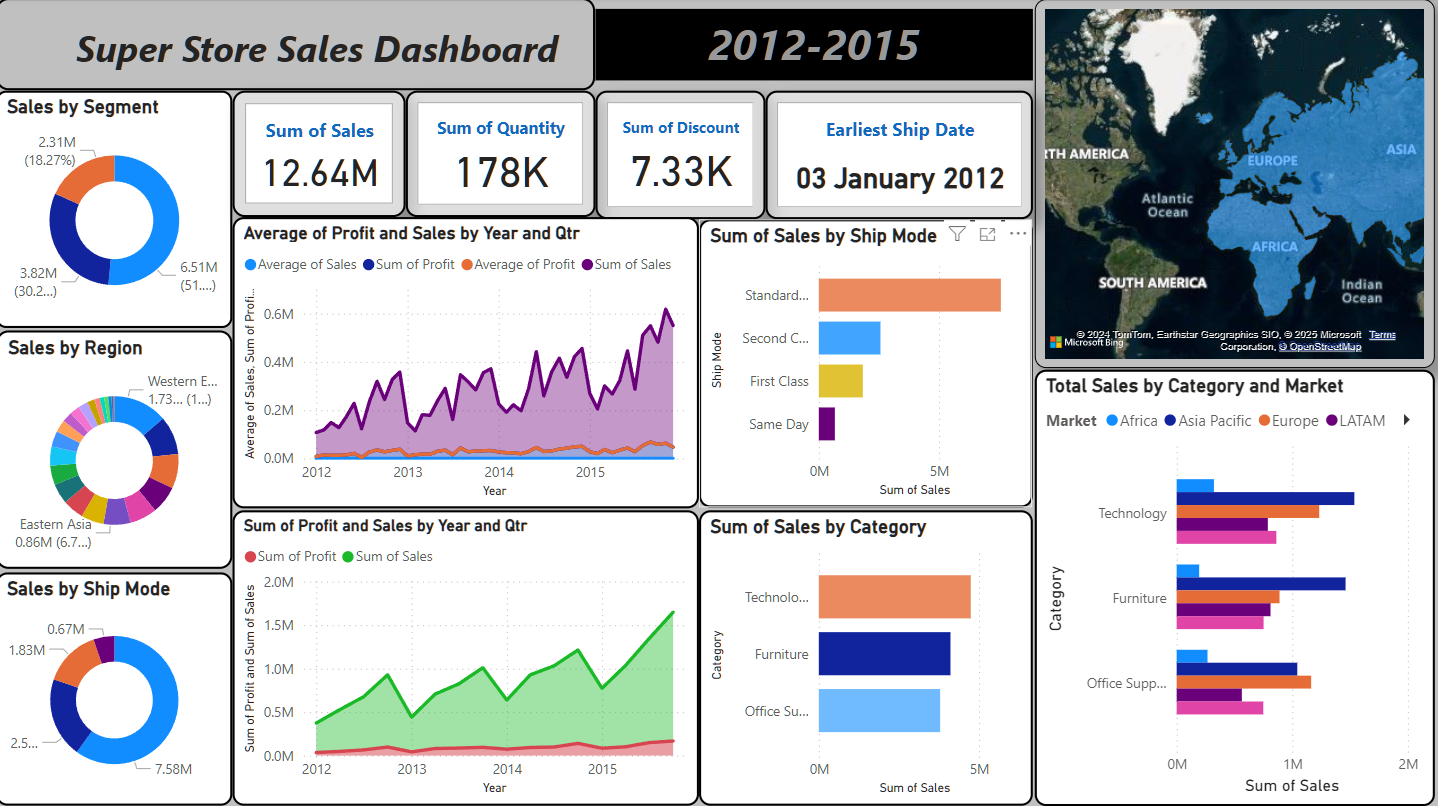

The page's visual inventory and layout, read from the dashboard file:
{"tool":"powerbi","page":{"name":"super store data 1","canvas":[1280,720],"ordinal":0},"visuals":[{"type":"textbox","box":[0,0,530.6,82],"z":0},{"type":"donutChart","fields":{"Category":["Orders.Region"],"Y":["Sum(Orders.Sales)"]},"box":[0,294.3,209.4,211],"z":1000},{"type":"donutChart","fields":{"Category":["Orders.Segment"],"Y":["Sum(Orders.Sales)"]},"box":[0,82,209.4,210],"z":2000},{"type":"donutChart","fields":{"Category":["Orders.Ship Mode"],"Y":["Sum(Orders.Sales)"]},"box":[0,508.4,209.4,206.5],"z":3000},{"type":"cardVisual","fields":{"Data":["Sum(Orders.Sales)"]},"box":[209.4,82,153.4,111.9],"z":4000},{"type":"cardVisual","fields":{"Data":["Sum(Orders.Quantity)"]},"box":[362.8,82,167.9,111.9],"z":5000},{"type":"cardVisual","fields":{"Data":["Sum(Orders.Discount)"]},"box":[530.6,82,150.5,113.8],"z":6000},{"type":"cardVisual","fields":{"Data":["Min(Orders.Ship Date)"]},"box":[681.1,82,237,113.8],"z":7000},{"type":"stackedAreaChart","title":"Sum of Profit and Sales by Year and Qtr","fields":{"Y":["Sum(Orders.Profit)","Sum(Orders.Sales)"],"Category":["Orders.Order Date.Variation.Date Hierarchy.Year","Orders.Order Date.Variation.Date Hierarchy.Quarter"]},"box":[209.4,453.4,412.9,261.5],"z":8000},{"type":"stackedAreaChart","title":"Average of Profit and Sales by Year and Qtr","fields":{"Y":["Avg(Orders.Sales)","Sum(Orders.Profit)1","Avg(Orders.Profit)","Sum(Orders.Sales)1"],"Category":["Orders.Order Date.Variation.Date Hierarchy.Year","Orders.Order Date.Variation.Date Hierarchy.Month"]},"box":[209.4,193.9,412.9,258],"z":9000},{"type":"clusteredBarChart","fields":{"Category":["Orders.Ship Mode"],"Y":["Sum(Orders.Sales)"]},"box":[622.3,195.8,295,255],"z":10000},{"type":"clusteredBarChart","fields":{"Category":["Orders.Category"],"Y":["Sum(Orders.Sales)"]},"box":[622.3,453.4,295,261.5],"z":11000},{"type":"filledMap","fields":{"Category":["Orders.Market","Orders.Country"],"Y":["Sum(Orders.Quantity)"],"Series":["Orders.Category"]},"box":[919.5,1,353.7,327],"z":12000},{"type":"clusteredBarChart","title":"Total Sales by Category and Market","fields":{"Category":["Orders.Category"],"Y":["Sum(Orders.Sales)"],"Series":["Orders.Market"]},"box":[919.4,329,354.1,385.9],"z":13000},{"type":"textbox","box":[530.6,9.6,386.9,63.7],"z":14000}]}

Visuals, with their boxes in screenshot pixels (x1, y1, x2, y2), scaled from the page's 1280x720 canvas onto the 1438x806 screenshot:
textbox: x1=0, y1=0, x2=596, y2=92
donutChart - Orders.Region x Sum(Orders.Sales): x1=0, y1=329, x2=235, y2=566
donutChart - Orders.Segment x Sum(Orders.Sales): x1=0, y1=92, x2=235, y2=327
donutChart - Orders.Ship Mode x Sum(Orders.Sales): x1=0, y1=569, x2=235, y2=800
cardVisual - Sum(Orders.Sales): x1=235, y1=92, x2=408, y2=217
cardVisual - Sum(Orders.Quantity): x1=408, y1=92, x2=596, y2=217
cardVisual - Sum(Orders.Discount): x1=596, y1=92, x2=765, y2=219
cardVisual - Min(Orders.Ship Date): x1=765, y1=92, x2=1031, y2=219
"Sum of Profit and Sales by Year and Qtr" stackedAreaChart: x1=235, y1=508, x2=699, y2=800
"Average of Profit and Sales by Year and Qtr" stackedAreaChart: x1=235, y1=217, x2=699, y2=506
clusteredBarChart - Orders.Ship Mode x Sum(Orders.Sales): x1=699, y1=219, x2=1031, y2=505
clusteredBarChart - Orders.Category x Sum(Orders.Sales): x1=699, y1=508, x2=1031, y2=800
filledMap - Orders.Market x Orders.Country: x1=1033, y1=1, x2=1430, y2=367
"Total Sales by Category and Market" clusteredBarChart: x1=1033, y1=368, x2=1431, y2=800
textbox: x1=596, y1=11, x2=1031, y2=82
